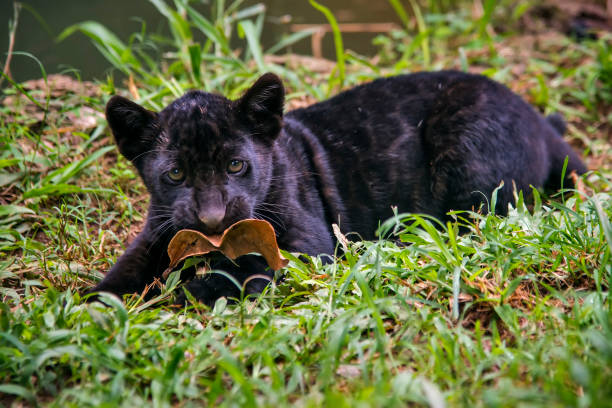panther: (82, 78, 308, 236)
